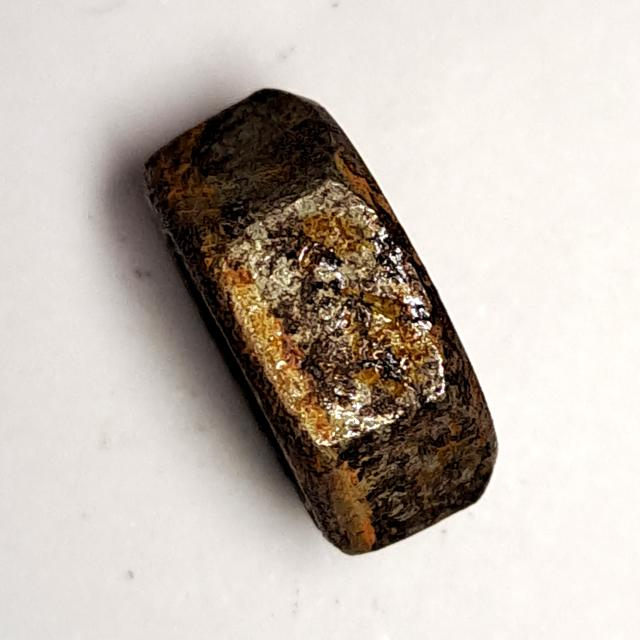Side_Rust: (124, 75, 525, 572)
